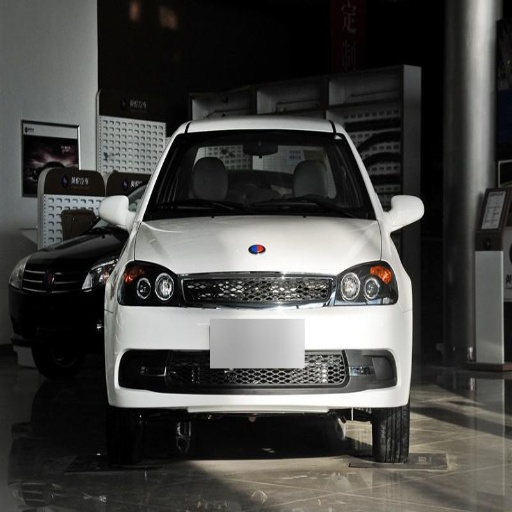front_bumper: (112, 273, 412, 413), (13, 272, 53, 337)
front_right_light: (116, 263, 151, 303)
hood: (135, 219, 379, 275)
left_mirror: (386, 195, 424, 232)
